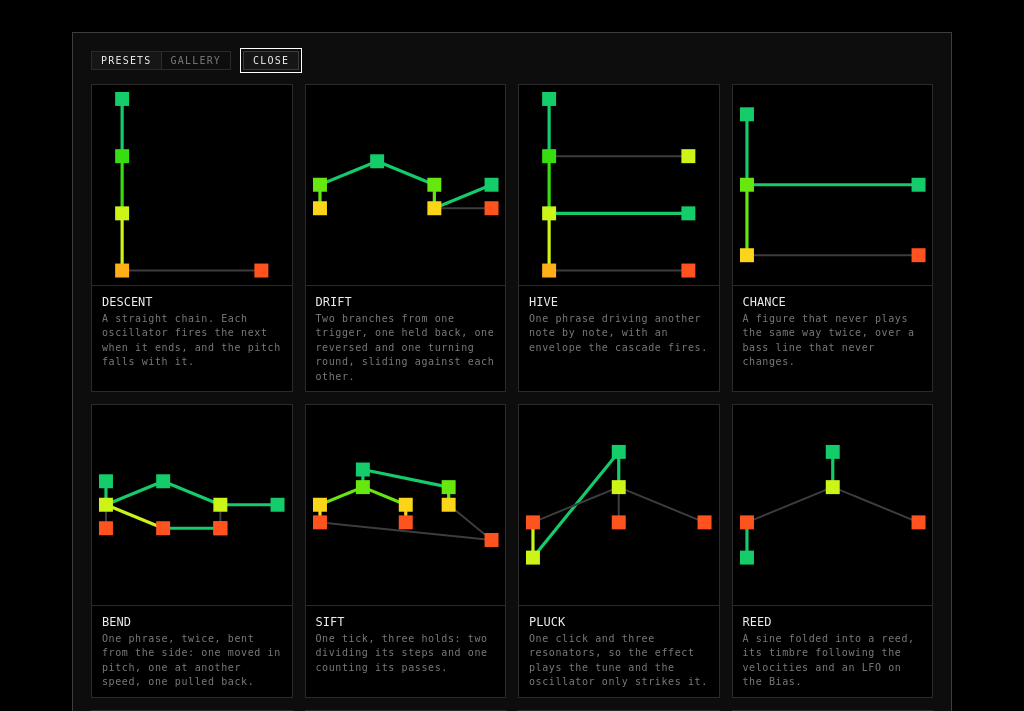
Test case: Gallery › says how to fill it rather than showing an empty grid
This screenshot has width=1024, height=711.
What coordinates should you click on to do the following:
click the button "GALLERY"
I would click on:
 (195, 60)
Its box is [160,52,230,69].
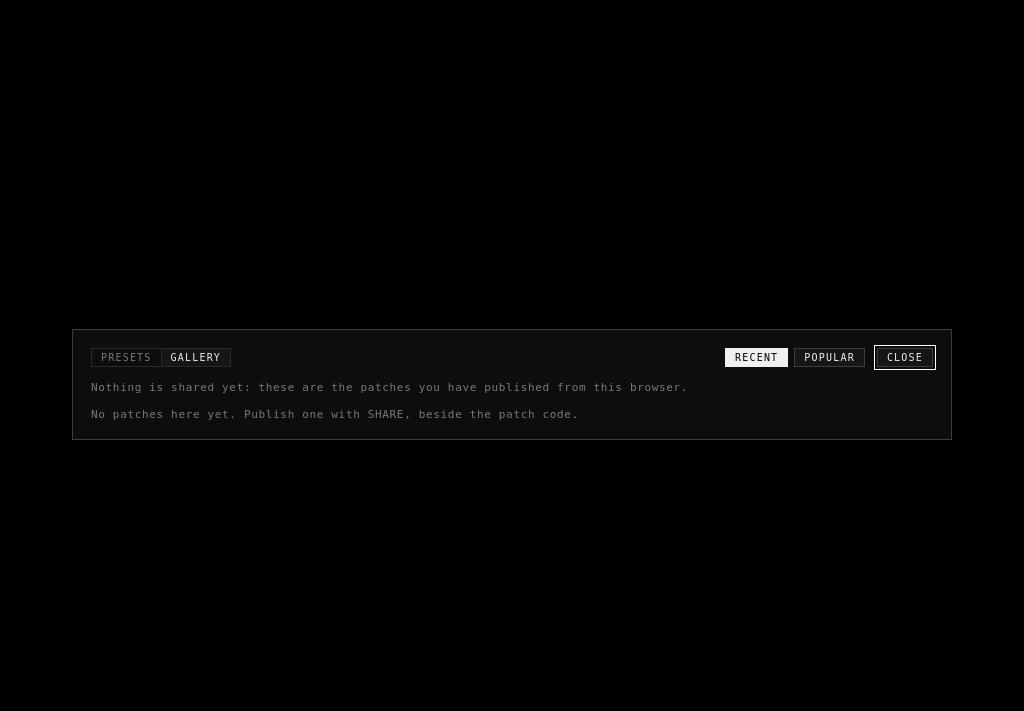
Expected: the text "SHARE" is shown, [91,408,579,420]
